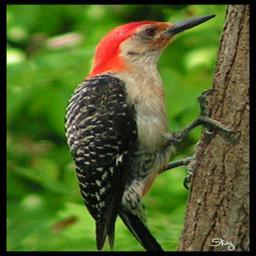Woodpecker: (63, 14, 242, 252)
